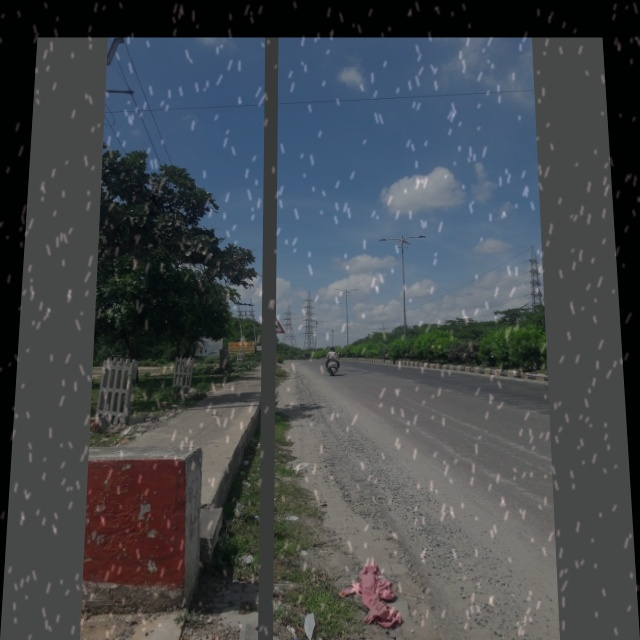Right_Hand_Curve: (267, 318, 283, 334)
